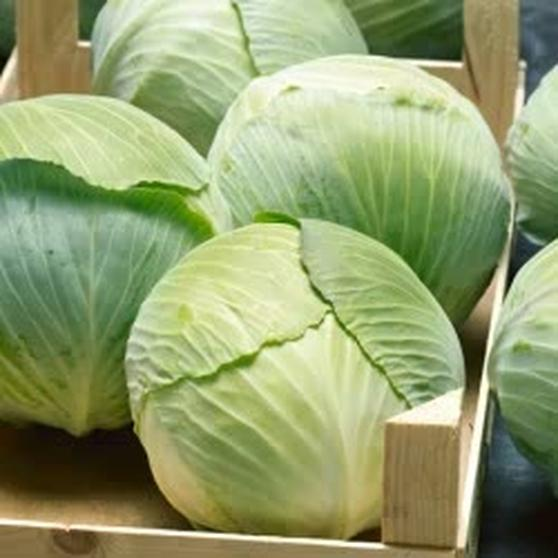cabbage: (115, 211, 462, 533)
